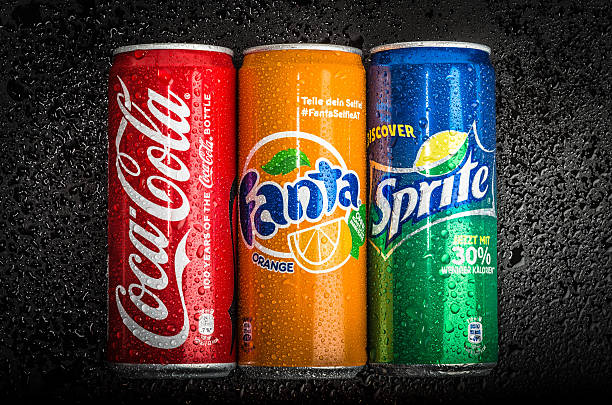fanta: (239, 51, 371, 373)
